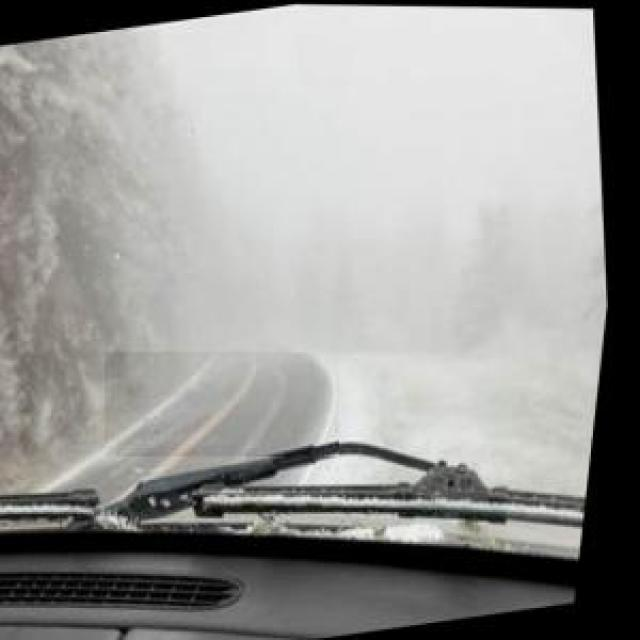ice-road: (107, 354, 339, 457)
